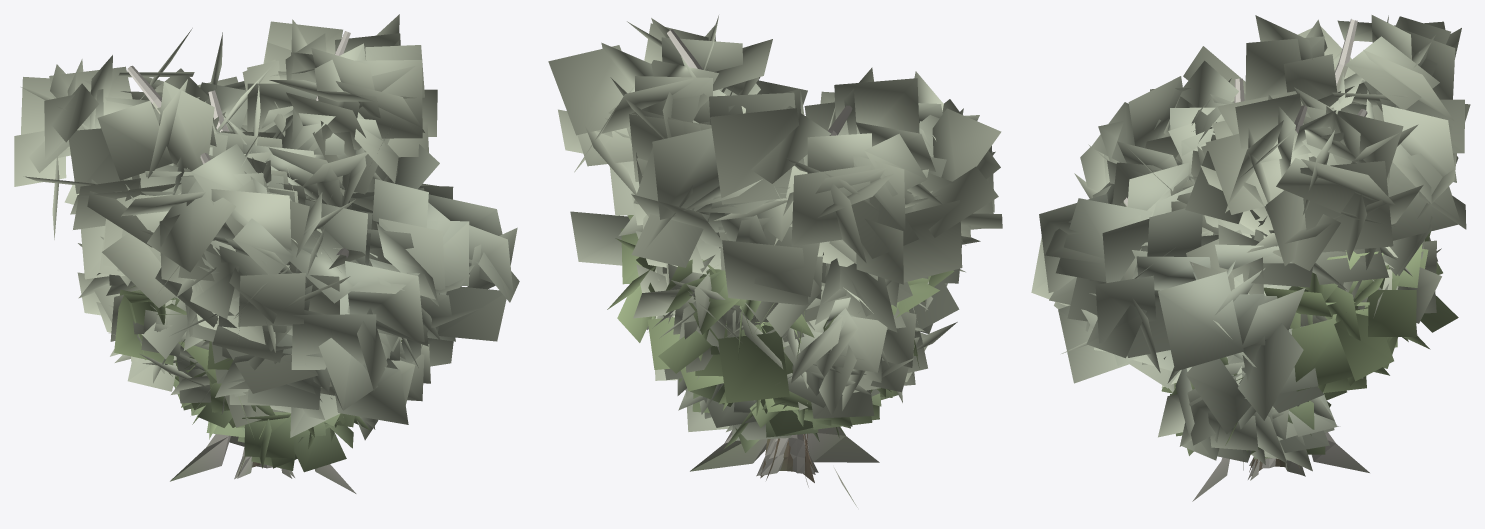
File: veg_erelian_trees.glb
3 views of the same model, side by side, from view 1: azimuth 30°, elevation 25°; view 2: azimuth 150°, elevation 25°; view 3: azimuth 270°, elevation 25° (orthographic). The views are drawn at different scales.
Visible parts, largest first — view 1: veg_erelian_white-tree_hero_lod0, veg_erelian_green-tree_b_lod0, veg_erelian_white-tree_a_lod0, veg_erelian_green-tree_a_lod0, veg_erelian_white-tree_b_lod0; view 2: veg_erelian_white-tree_hero_lod0, veg_erelian_white-tree_b_lod0, veg_erelian_green-tree_a_lod0, veg_erelian_green-tree_b_lod0, veg_erelian_white-tree_a_lod0; view 3: veg_erelian_white-tree_hero_lod0, veg_erelian_green-tree_a_lod0, veg_erelian_white-tree_b_lod0, veg_erelian_white-tree_a_lod0, veg_erelian_green-tree_b_lod0.
Boxes of the visible parts, <box> form: veg_erelian_white-tree_hero_lod0: <box>14,14,519,493</box>; veg_erelian_green-tree_b_lod0: <box>168,359,370,472</box>; veg_erelian_white-tree_a_lod0: <box>109,300,430,478</box>; veg_erelian_green-tree_a_lod0: <box>114,285,401,475</box>; veg_erelian_white-tree_b_lod0: <box>77,243,375,479</box>; veg_erelian_white-tree_hero_lod0: <box>548,15,1002,507</box>; veg_erelian_white-tree_b_lod0: <box>633,248,916,476</box>; veg_erelian_green-tree_a_lod0: <box>607,215,954,478</box>; veg_erelian_green-tree_b_lod0: <box>680,322,898,482</box>; veg_erelian_white-tree_a_lod0: <box>652,281,957,487</box>; veg_erelian_white-tree_hero_lod0: <box>1031,15,1470,501</box>; veg_erelian_green-tree_a_lod0: <box>1190,231,1458,475</box>; veg_erelian_white-tree_b_lod0: <box>1194,237,1441,479</box>; veg_erelian_white-tree_a_lod0: <box>1158,269,1417,480</box>; veg_erelian_green-tree_b_lod0: <box>1161,337,1397,475</box>.
Size of what is drawn, in the model's own units: 13.66 by 12.74 by 12.11.
